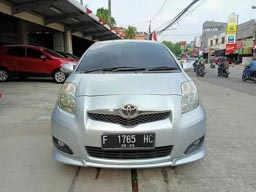plat: (100, 134, 155, 142)
